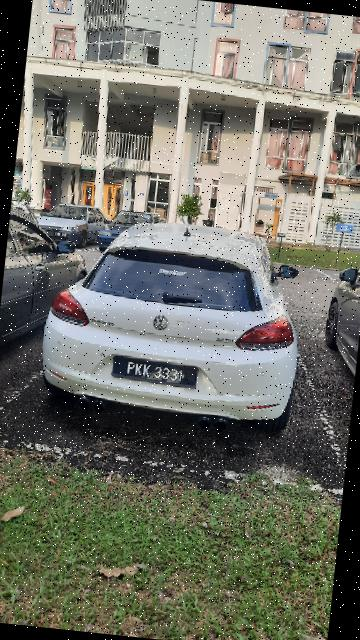License_Plate: (105, 349, 206, 394)
car: (32, 205, 323, 443)
